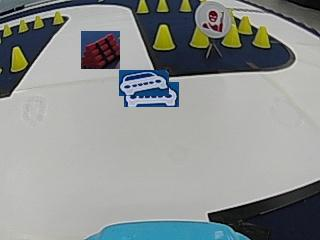evil: (195, 2, 231, 37)
